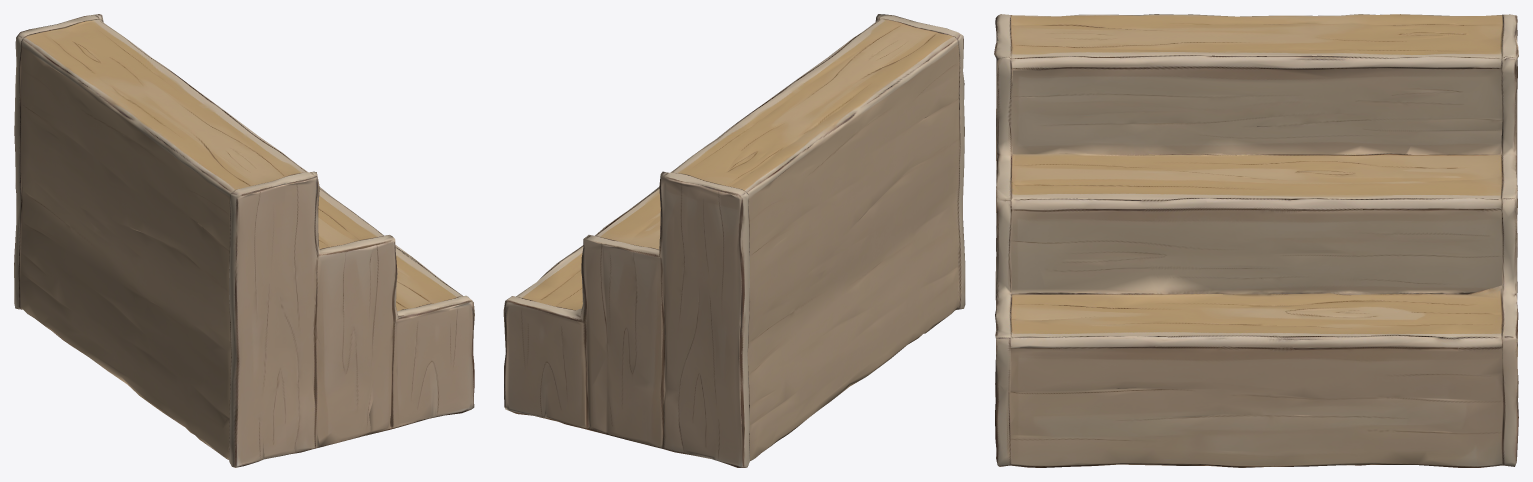
File: raw_shop_display.glb
3 views of the same model, side by side, from view 1: azimuth 30°, elevation 25°; view 2: azimuth 150°, elevation 25°; view 3: azimuth 270°, elevation 25° (orthographic). The views are drawn at different scales.
Visible parts, largest first — view 1: tripo_node_d08912b7-33be-4fd1-af5b-4817a449f84e; view 2: tripo_node_d08912b7-33be-4fd1-af5b-4817a449f84e; view 3: tripo_node_d08912b7-33be-4fd1-af5b-4817a449f84e.
Boxes of the visible parts, <box> form: tripo_node_d08912b7-33be-4fd1-af5b-4817a449f84e: <box>14,14,474,467</box>; tripo_node_d08912b7-33be-4fd1-af5b-4817a449f84e: <box>503,14,965,467</box>; tripo_node_d08912b7-33be-4fd1-af5b-4817a449f84e: <box>994,14,1518,467</box>.
Bounding box in the file's own units: 0.6243 × 0.6789 × 1.
1 material, 1 textured.
